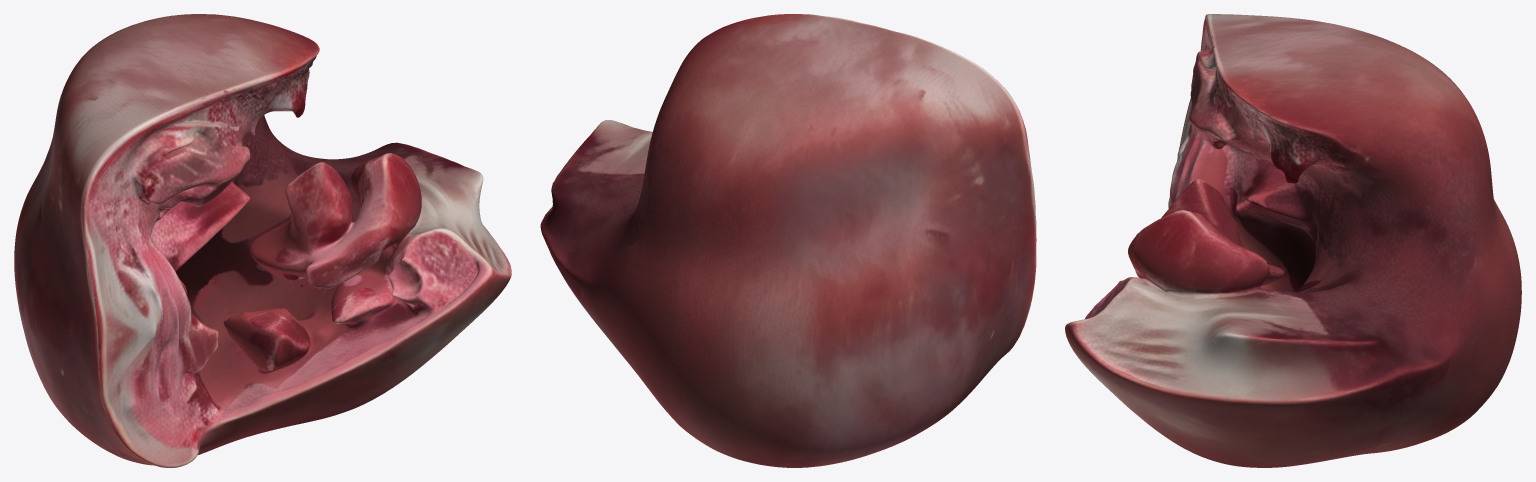
File: vet_v2_path_fracture.glb
3 views of the same model, side by side, from view 1: azimuth 30°, elevation 25°; view 2: azimuth 150°, elevation 25°; view 3: azimuth 270°, elevation 25° (orthographic). The views are drawn at different scales.
Visible parts, largest first — view 1: model; view 2: model; view 3: model.
Part boxes in pixels (<box>): model: <box>14,14,511,467</box>; model: <box>540,14,1036,467</box>; model: <box>1065,14,1521,467</box>.
Size of the model in its own units: 1.89 by 1.63 by 1.73.
1 material, 1 textured.
